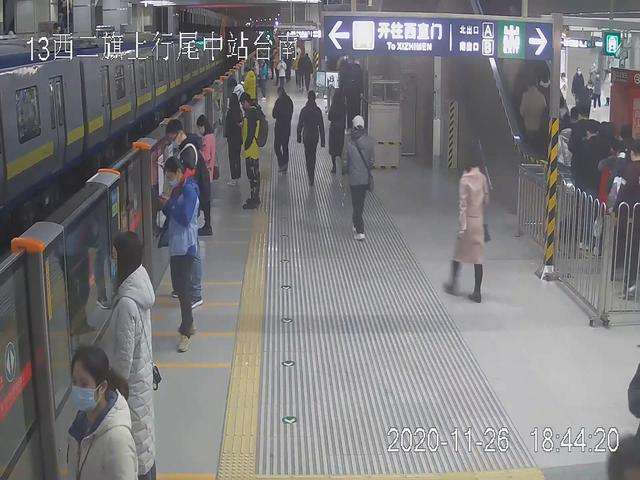person: (99, 225, 165, 480), (59, 345, 135, 480), (160, 159, 200, 349), (445, 147, 491, 306), (169, 116, 205, 305), (337, 114, 378, 240), (242, 93, 273, 212), (299, 90, 322, 185), (225, 93, 247, 187), (271, 85, 292, 173)
